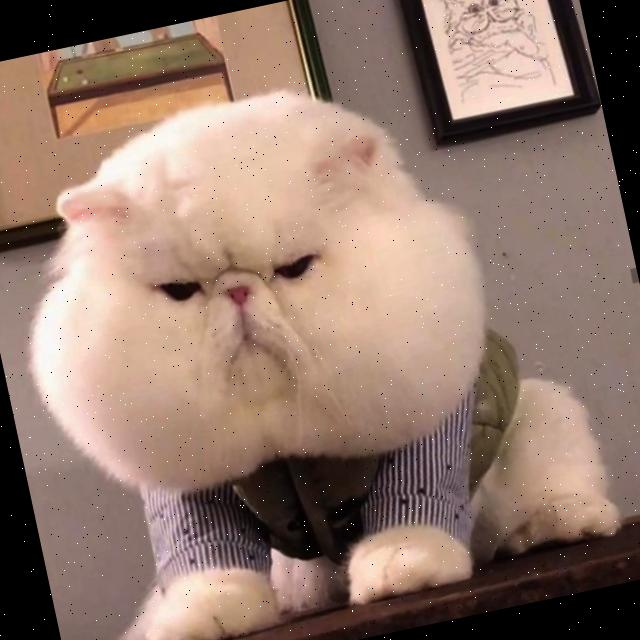cat: (26, 86, 445, 492)
